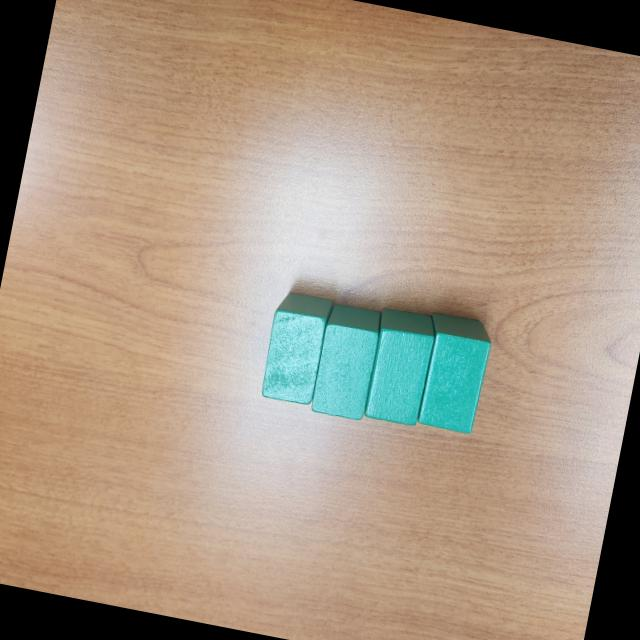green: (409, 311, 495, 436), (360, 304, 440, 428), (258, 289, 334, 411), (308, 302, 384, 422)
